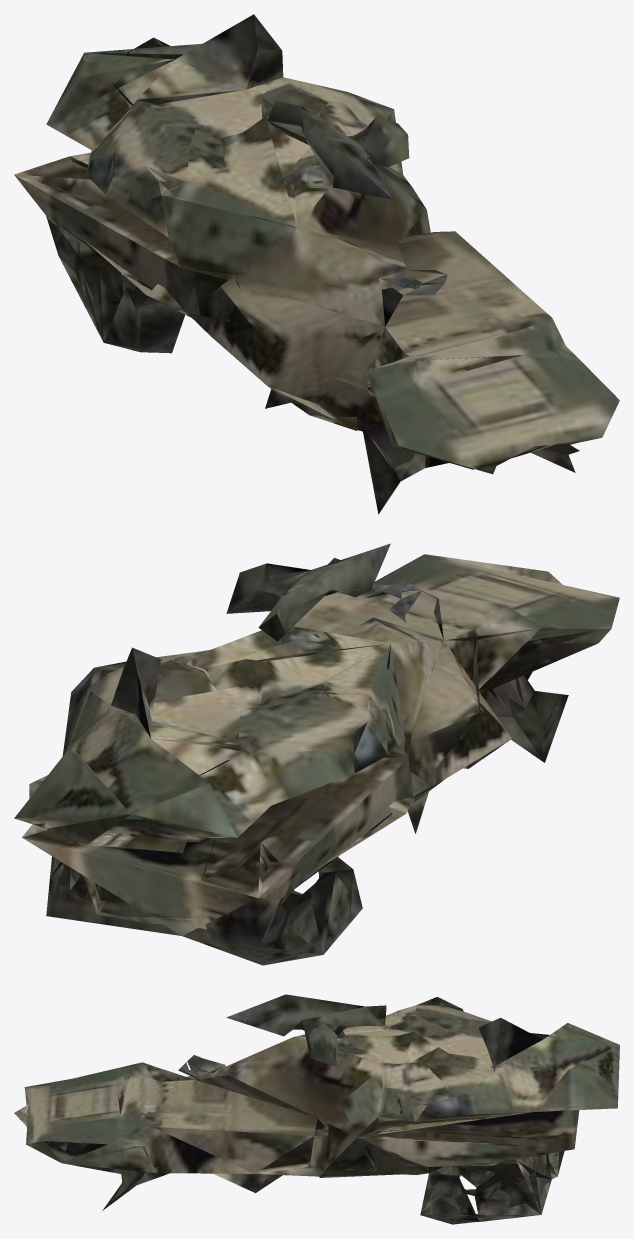
The model's file is aa_vehicle_1281601400_lod0.glb.
3 renders of one model, top to bottom at view 1: azimuth 30°, elevation 25°; view 2: azimuth 150°, elevation 25°; view 3: azimuth 270°, elevation 25°, orthographic. The views are drawn at different scales.
Bounding box in the file's own units: 3 × 2.7 × 7.62.
Materials: 1 (1 with a texture image).
